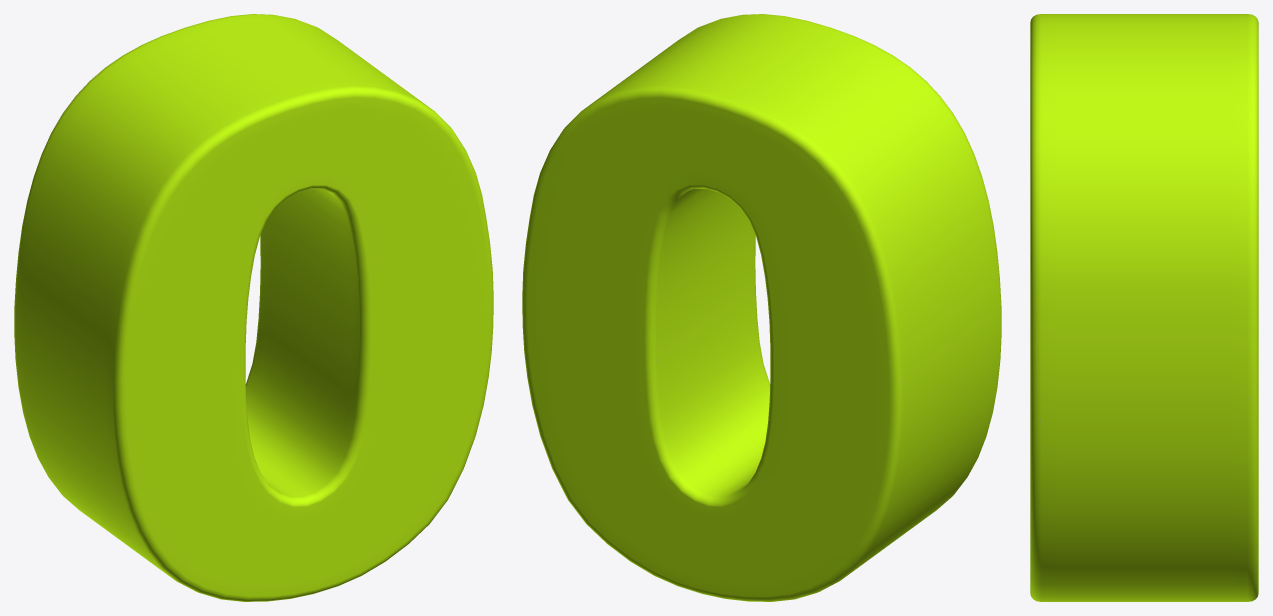
File: num0.glb
The picture shows the model from 3 angles, left to right: view 1: azimuth 30°, elevation 25°; view 2: azimuth 150°, elevation 25°; view 3: azimuth 270°, elevation 25°; orthographic projection. The views are drawn at different scales.
Visible parts, largest first — view 1: node_id2969; view 2: node_id2969; view 3: node_id2969.
Boxes of the visible parts, x1,y1,x2,y2 form: node_id2969: (14,14,493,601); node_id2969: (522,14,1001,601); node_id2969: (1030,14,1258,601).
Size of the model in its own units: 0.2342 by 0.2956 by 0.1146.
Materials: 1 (1 with a texture image).
